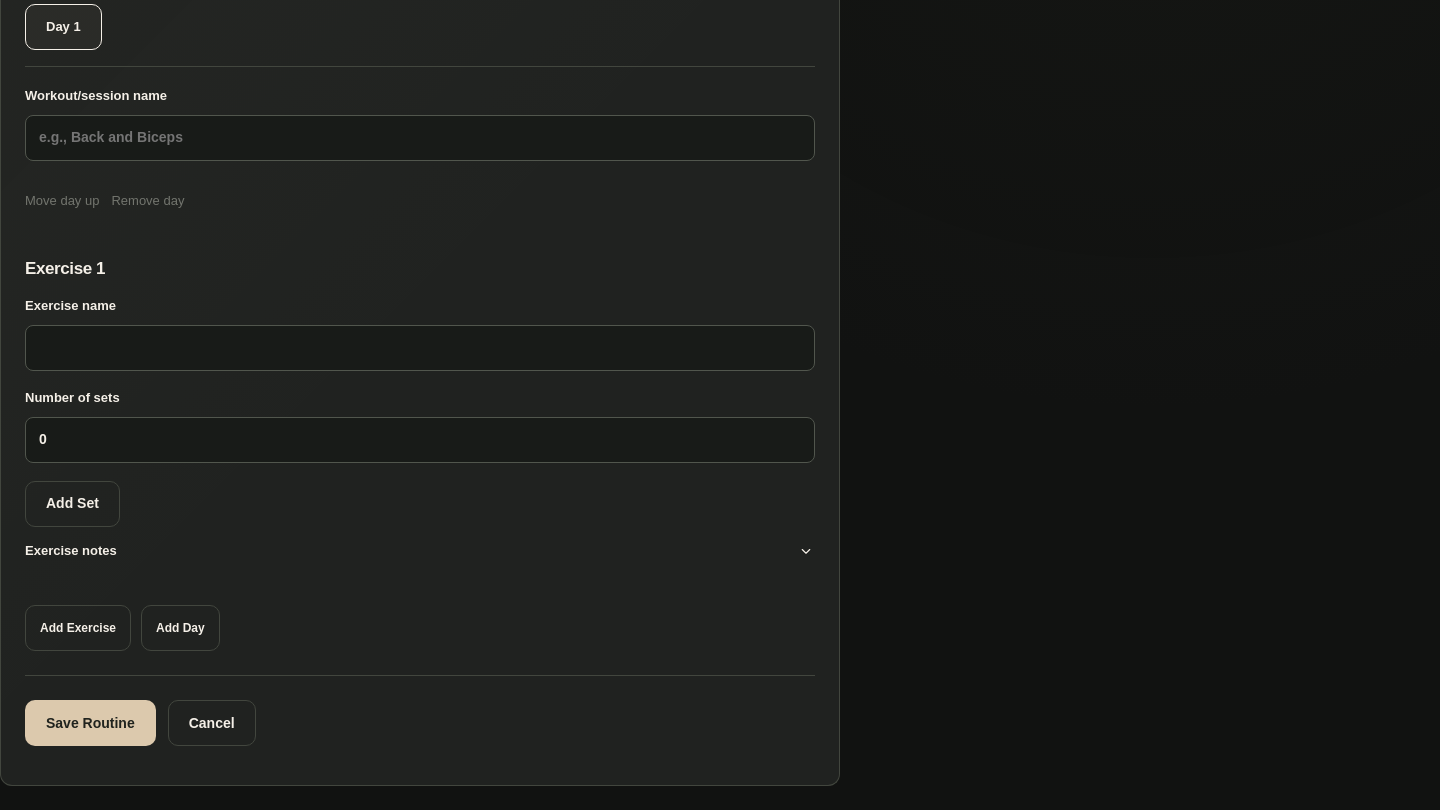
it: new routines start empty with one blank input form and no inserted catalog or placeholder records
(page scrolled)
Expected: the field labelled "Workout/session name" is empty, [25,115,815,161]
Expected: the field labelled "Exercise name" is empty, [25,325,815,371]
Step 1. Click the button "Add Exercise" → (78, 628), box [25,605,131,651]
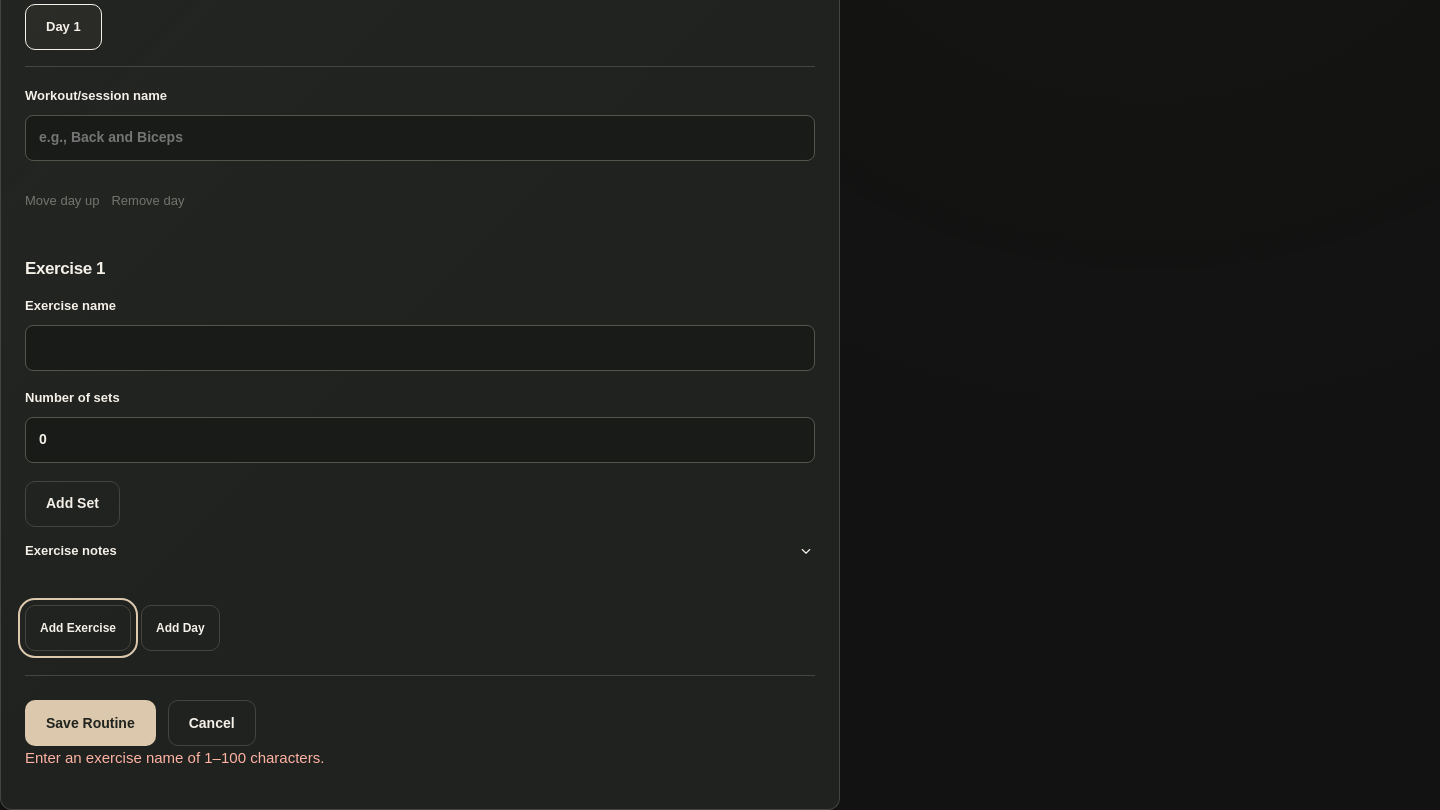
Now the message shows "Enter an exercise name", box [25,749,324,766]
